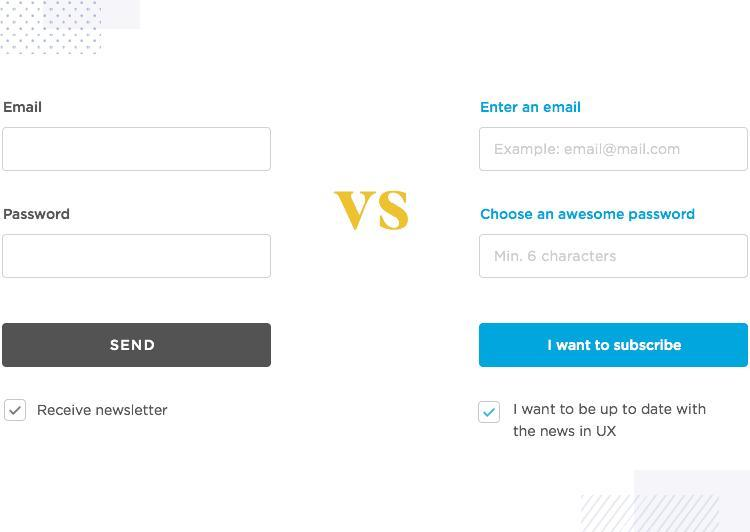button: (478, 322, 750, 370), (1, 323, 273, 368)
checkbox: (478, 401, 502, 426), (4, 399, 27, 422)
input: (478, 128, 750, 175), (480, 236, 750, 280), (4, 130, 272, 172), (4, 237, 272, 278)
label: (511, 401, 708, 442), (480, 207, 698, 224), (38, 403, 172, 420), (478, 99, 588, 118), (4, 207, 71, 223), (4, 100, 43, 115)
